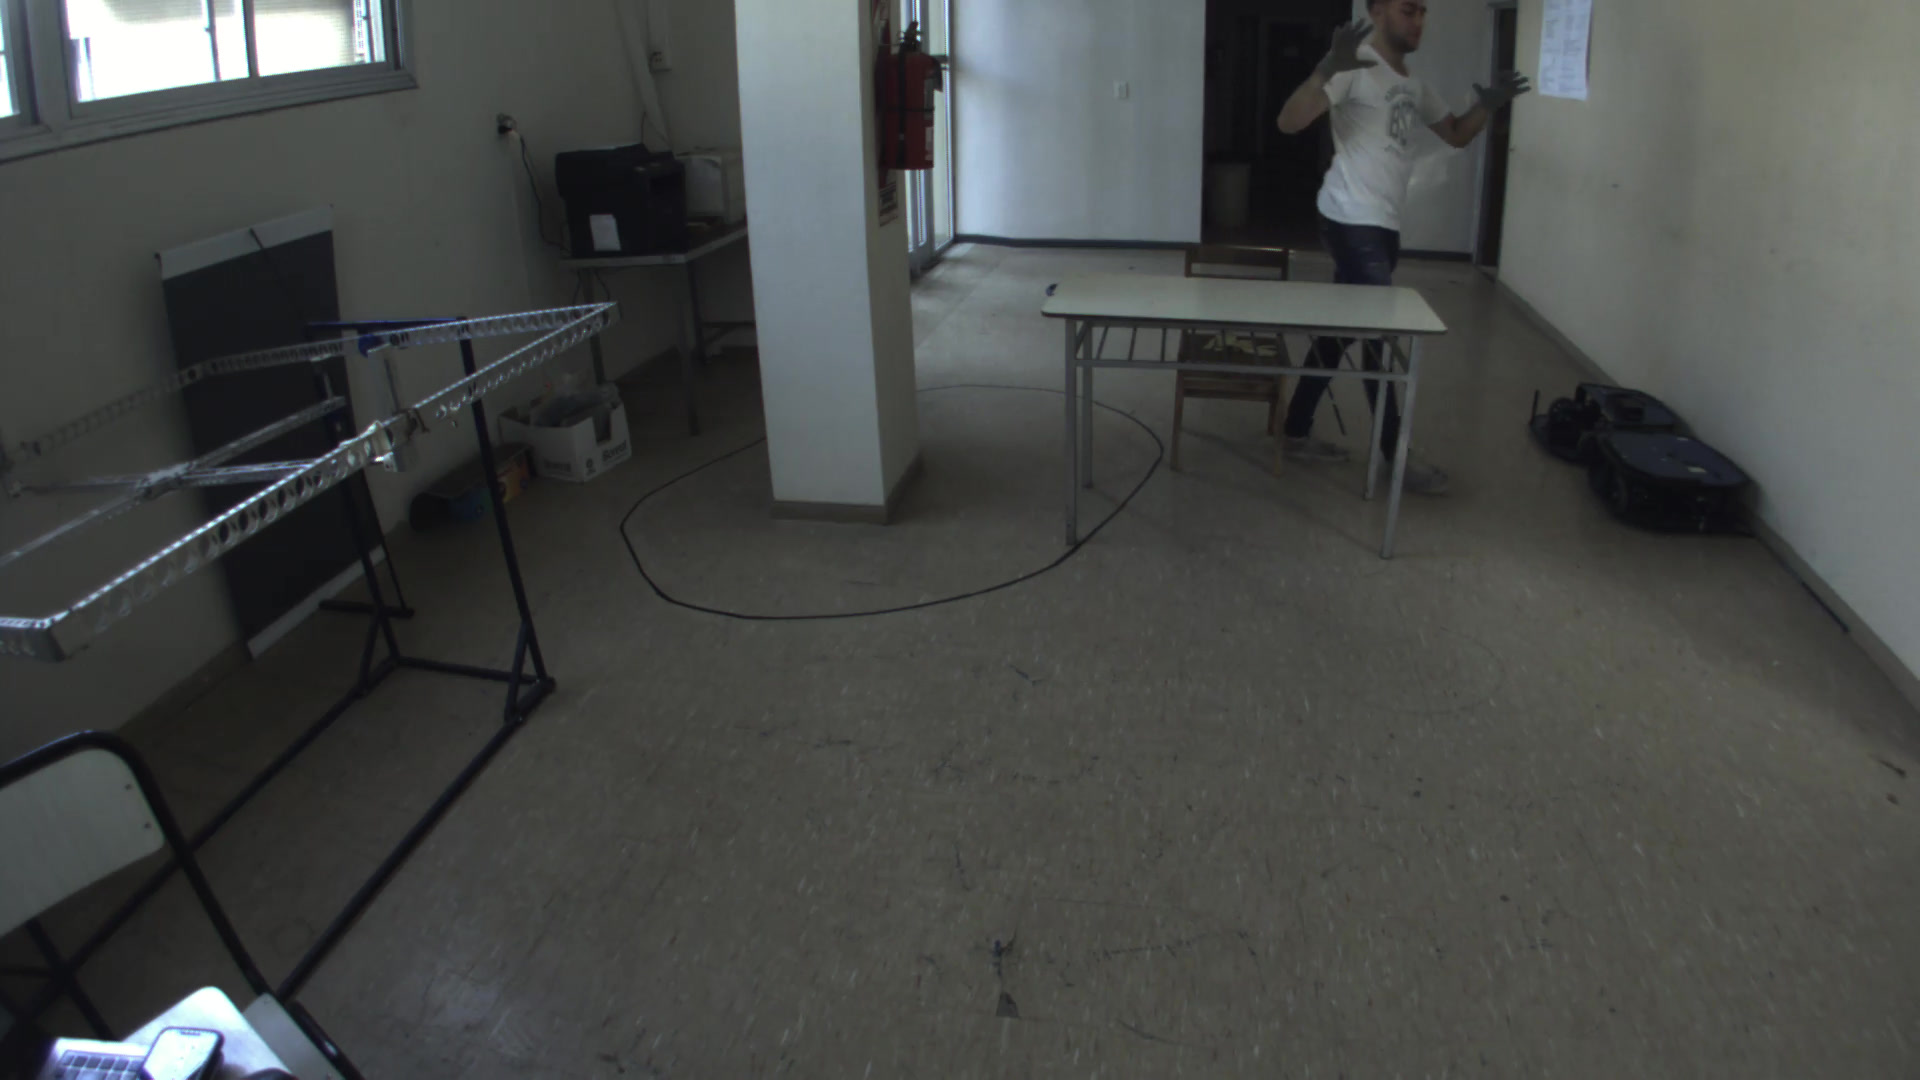hand: (1313, 16, 1391, 84), (1466, 61, 1539, 117)
